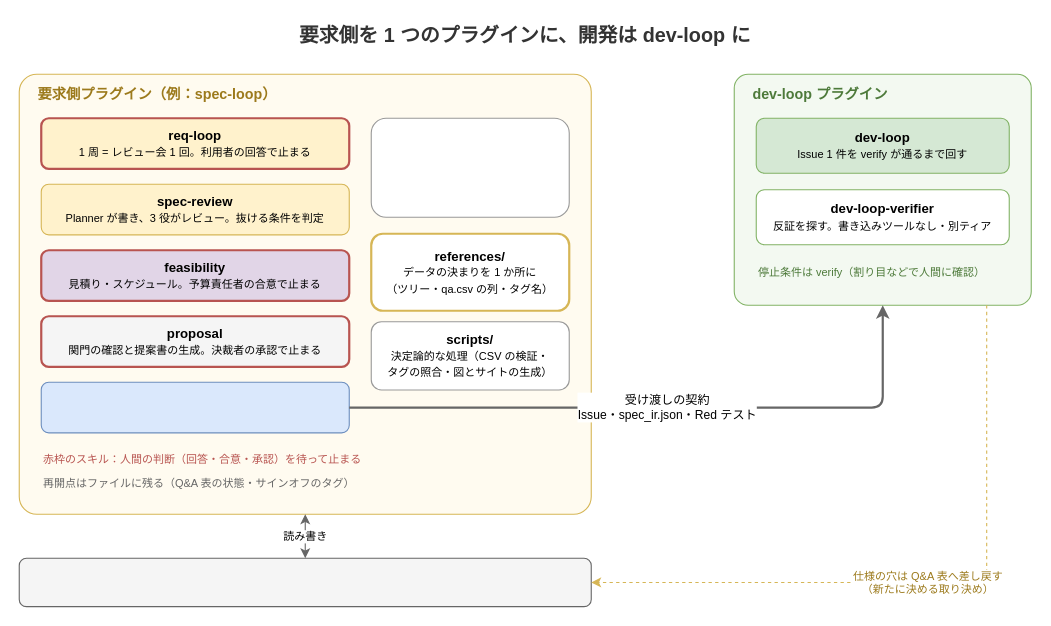
Some shapes in this 1051 by 626 pixel diagram are drawn without their labels. The shapes that lost their labels are listed below. From the top down, each one's centre as x and y in pixels, then its label:
At point 469,167: "agents/ Red Team・Domain Checker・ Formal Checker・見積りの検証役 書き込みツールなし・別ティア".
At point 194,407: "scaffold spec_ir.json → OpenAPI・型・Red テスト → Issue 化".
At point 304,582: "正本リポジトリ docs/ の下の shared・requirements・feasibility・proposal（Q&A 表は shared/qa.csv）".
